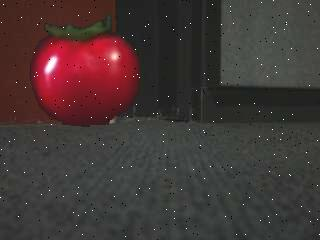Tomato: (28, 14, 142, 126)
